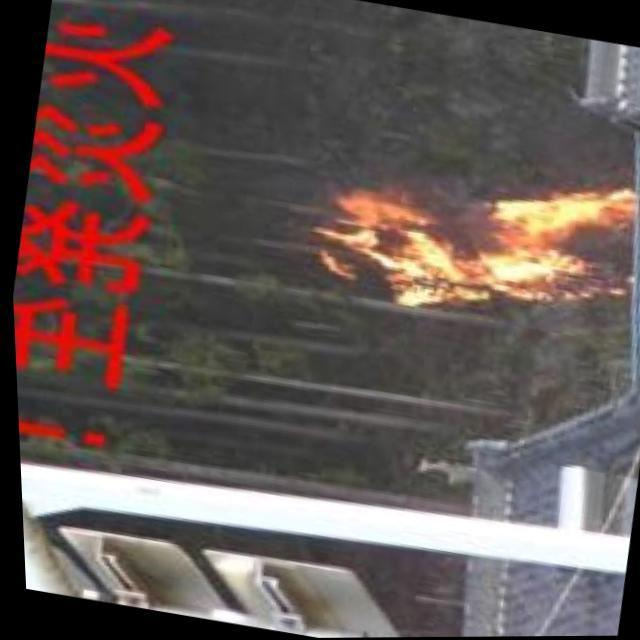fire: (311, 134, 640, 353)
